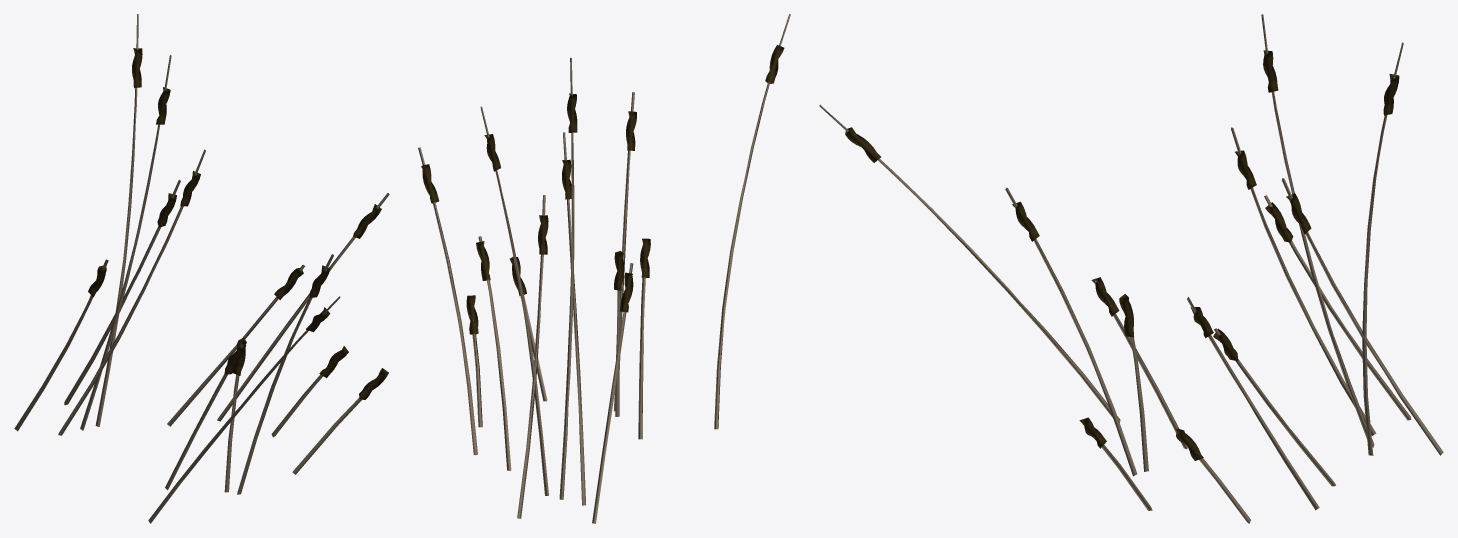
File: cattail1.fbx
The picture shows the model from 3 angles, left to right: view 1: azimuth 30°, elevation 25°; view 2: azimuth 150°, elevation 25°; view 3: azimuth 270°, elevation 25°; orthographic projection. The views are drawn at different scales.
Parts seen in each view (by area): view 1: cattail1Main, cattail1Flower; view 2: cattail1Main, cattail1Flower; view 3: cattail1Main, cattail1Flower.
Boxes of the visible parts, x1,y1,x2,y2 form: cattail1Main: (14, 14, 389, 523); cattail1Flower: (88, 48, 388, 399); cattail1Main: (418, 14, 790, 523); cattail1Flower: (421, 45, 784, 334); cattail1Main: (819, 14, 1443, 523); cattail1Flower: (845, 50, 1399, 460).
Bounding box in the file's own units: 3.02 × 4.18 × 5.2.
